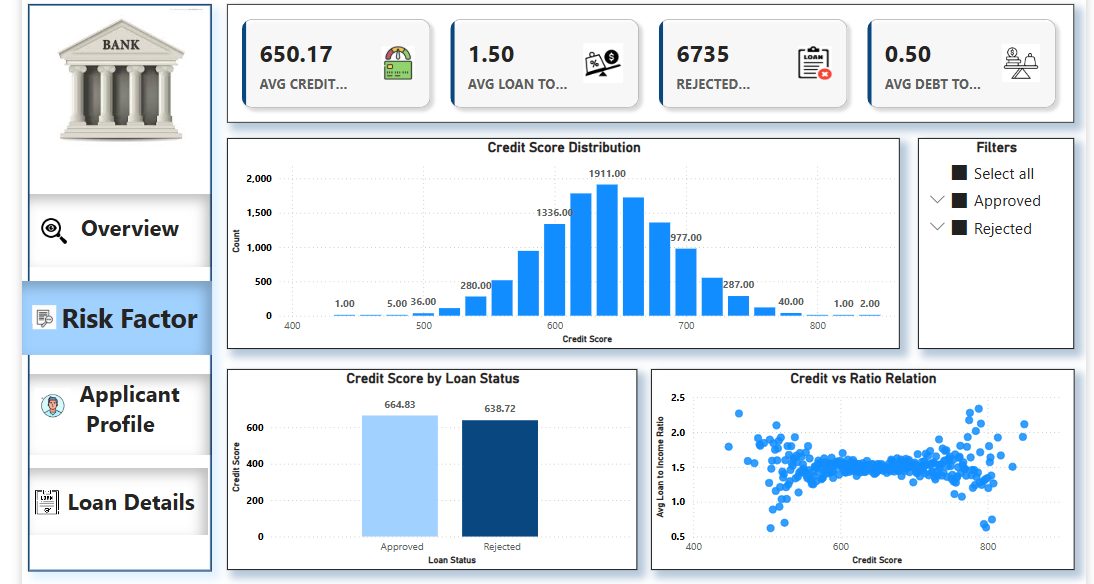

The dashboard page shown, as its layout file describes it:
{"tool":"powerbi","page":{"name":"Page 2","canvas":[1280,720],"ordinal":1},"visuals":[{"type":"image","box":[8.6,0,245.8,253.1],"z":0},{"type":"actionButton","box":[24.1,264.2,200.3,70],"z":1000},{"type":"actionButton","box":[24.1,359.5,200.3,76],"z":2000},{"type":"actionButton","box":[24.1,460.9,200.3,89.3],"z":3000},{"type":"actionButton","box":[24.1,574.3,200.3,79.6],"z":4000},{"type":"card","fields":{"Values":["clean_data.Average Credit Score"]},"box":[267.8,25.7,206.7,94.2],"z":5000},{"type":"card","fields":{"Values":["clean_data.Average Loan Amount"]},"box":[530.7,25.7,217.7,94.2],"z":6000},{"type":"card","fields":{"Values":["clean_data.Rejected Applications"]},"box":[1041.9,25.7,211.6,94.2],"z":7000},{"type":"card","fields":{"Values":["clean_data.Average Debt to Income Ratio"]},"box":[778.9,26.9,222.6,92.9],"z":8000},{"type":"actionButton","box":[254.3,11,1008.8,116.2],"z":9000},{"type":"clusteredColumnChart","fields":{"Category":["clean_data.Credit_Score"],"Y":["Count(clean_data.Loan_ID)"]},"box":[254.3,148,741,313],"z":10000},{"type":"clusteredColumnChart","fields":{"Category":["clean_data.Loan_Status"],"Y":["clean_data.Average Credit Score"]},"box":[254.3,476.9,291,215.2],"z":11000},{"type":"scatterChart","fields":{"Y":["clean_data.Average Loan Amount"],"X":["clean_data.Credit_Score"]},"box":[572.3,476.9,697,215.2],"z":12000},{"type":"slicer","fields":{"Values":["clean_data.Loan_Status","clean_data.Employment_Type","clean_data.Credit_Score","clean_data.Debt_to_Income_Ratio","clean_data.Loan_Term_Range"]},"box":[1017.4,148,251.9,313],"z":13000}]}

Visuals, with their boxes on the page's 1280x720 design canvas (x1, y1, x2, y2). These are canvas units, not pixel positions in the 1094x584 screenshot, which may show the page scaled, cropped or inside an application window:
image: [left=9, top=0, right=254, bottom=253]
actionButton: [left=24, top=264, right=224, bottom=334]
actionButton: [left=24, top=360, right=224, bottom=436]
actionButton: [left=24, top=461, right=224, bottom=550]
actionButton: [left=24, top=574, right=224, bottom=654]
card - clean_data.Average Credit Score: [left=268, top=26, right=474, bottom=120]
card - clean_data.Average Loan Amount: [left=531, top=26, right=748, bottom=120]
card - clean_data.Rejected Applications: [left=1042, top=26, right=1254, bottom=120]
card - clean_data.Average Debt to Income Ratio: [left=779, top=27, right=1002, bottom=120]
actionButton: [left=254, top=11, right=1263, bottom=127]
clusteredColumnChart - clean_data.Credit_Score x Count(clean_data.Loan_ID): [left=254, top=148, right=995, bottom=461]
clusteredColumnChart - clean_data.Loan_Status x clean_data.Average Credit Score: [left=254, top=477, right=545, bottom=692]
scatterChart - clean_data.Average Loan Amount x clean_data.Credit_Score: [left=572, top=477, right=1269, bottom=692]
slicer - clean_data.Loan_Status x clean_data.Employment_Type: [left=1017, top=148, right=1269, bottom=461]
